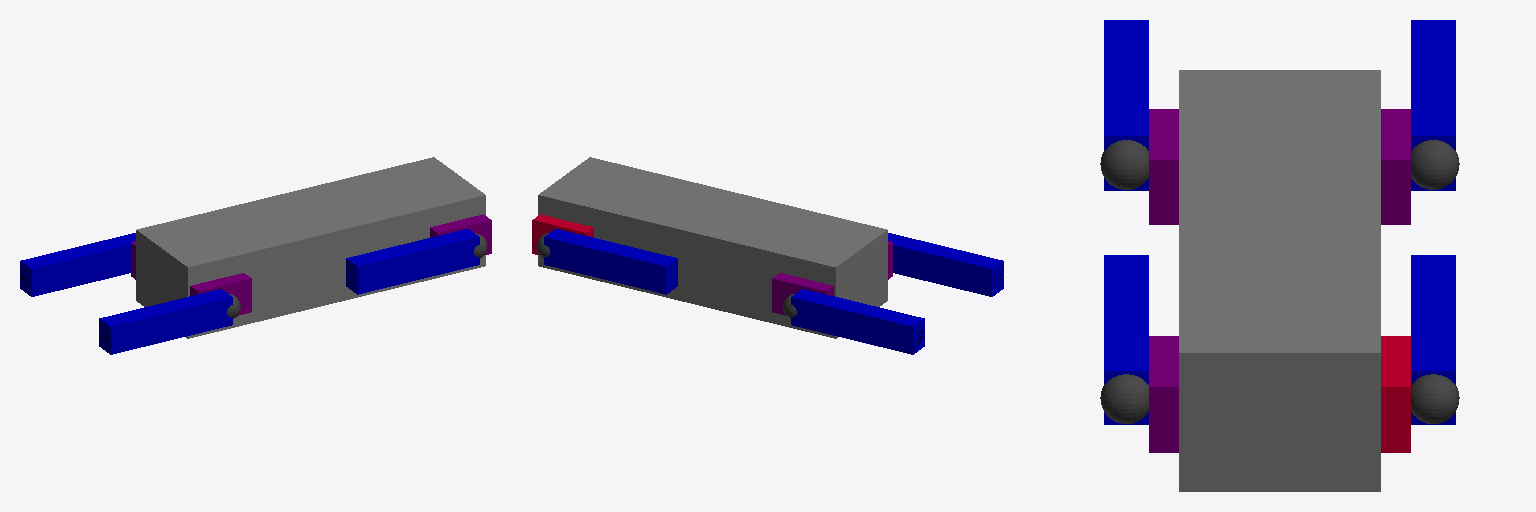
--- What the picture shows (computed from the rendered views, not written in the file) ---
The picture shows the robot from 3 angles, left to right: view 1: azimuth 30°, elevation 25°; view 2: azimuth 150°, elevation 25°; view 3: azimuth 270°, elevation 25°; orthographic projection.
Robot: ngr — 17 links, 16 joints (12 revolute, 4 fixed); root link body; default pose: every joint at zero.
Links seen in each view (by area): view 1: body, upper2, upper3, upper1, hip3, hip2; view 2: body, upper0, upper1, upper3, hip1, hip0; view 3: body, upper1, upper3, upper0, upper2, hip0, hip2, hip1, hip3, toe1, toe3, toe0 (+1 smaller).
Link boxes in pixels (x1=…): body: x1=136, y1=157, x2=485, y2=338; upper2: x1=346, y1=229, x2=479, y2=294; upper3: x1=99, y1=289, x2=232, y2=354; upper1: x1=20, y1=233, x2=135, y2=296; hip3: x1=190, y1=273, x2=251, y2=315; hip2: x1=430, y1=214, x2=491, y2=254; body: x1=538, y1=157, x2=887, y2=338; upper0: x1=544, y1=229, x2=677, y2=294; upper1: x1=791, y1=289, x2=924, y2=354; upper3: x1=888, y1=233, x2=1003, y2=296; hip1: x1=772, y1=273, x2=833, y2=315; hip0: x1=532, y1=214, x2=593, y2=254; body: x1=1179, y1=70, x2=1380, y2=491; upper1: x1=1411, y1=20, x2=1455, y2=190; upper3: x1=1104, y1=20, x2=1148, y2=190; upper0: x1=1411, y1=255, x2=1455, y2=424; upper2: x1=1104, y1=255, x2=1148, y2=424; hip0: x1=1381, y1=336, x2=1410, y2=452; hip2: x1=1149, y1=336, x2=1178, y2=452; hip1: x1=1381, y1=109, x2=1410, y2=224; hip3: x1=1149, y1=109, x2=1178, y2=224; toe1: x1=1411, y1=140, x2=1459, y2=189; toe3: x1=1100, y1=140, x2=1148, y2=189; toe0: x1=1411, y1=374, x2=1459, y2=423.
Size in the robot's own frame: 1.1 by 0.4457 by 0.19 metres.
Geometry: primitives only (box / cylinder / sphere), no mesh files.

URDF robot description (ngr):
<?xml version="1.0" ?>
<!-- =================================================================================== -->
<!-- |    This document was autogenerated by xacro from vision60.urdf.xacro            | -->
<!-- |    EDITING THIS FILE BY HAND IS NOT RECOMMENDED                                 | -->
<!-- =================================================================================== -->
<!--
 * Copyright (C) Ghost Robotics - All Rights Reserved
 * Unauthorized copying of this file, via any medium is strictly prohibited
 * Proprietary and confidential
 * Written by Avik De <[email redacted]> and Tom Jacobs <[email redacted]>
-->
<robot name="ngr" xmlns:xacro="http://www.ros.org/wiki/xacro">
  <!-- Define parameters -->
  <!-- Change here v3 or v4 -->
  <!-- body geometric properties xacro:if does not appear to work with this version of xacro.py -->
  <!-- body dynamic properties -->
  <!-- Simulation-specific dynamics properties (mostly guessing) -->
  <!-- Joint limits -->
  <!-- Define materials -->
  <material name="gray">
    <color rgba="0.5 0.5 0.5 1.0"/>
  </material>
  <material name="darkgray">
    <color rgba="0.3 0.3 0.3 1.0"/>
  </material>
  <material name="blue">
    <color rgba="0 0 0.8 1"/>
  </material>
  <material name="black">
    <color rgba="0 0 0 1"/>
  </material>
  <material name="purple">
    <color rgba="0.5 0.0 0.5 1.0"/>
  </material>
  <material name="red">
    <color rgba="0.8 0.0 0.2 1.0"/>
  </material>
  <!-- Body -->
  <link name="body">
    <visual>
      <origin rpy="0 0 0" xyz="0 0 0"/>
      <geometry>
        <box size="0.83 0.25 0.19"/>
      </geometry>
      <material name="gray"/>
    </visual>
    <inertial>
      <mass value="17.9"/>
      <inertia ixx="0.0986" ixy="0" ixz="0" iyy="0.8105" iyz="0" izz="0.8369"/>
    </inertial>
    <!-- Just copy geometry for collision -->
    <collision>
      <origin rpy="0 0 0" xyz="0 0 0"/>
      <geometry>
        <box size="0.83 0.25 0.19"/>
      </geometry>
    </collision>
  </link>
  <gazebo reference="body">
    <material>Gazebo/BlackTransparent</material>
  </gazebo>
  <gazebo reference="body">
    <gravity>true</gravity>
    <sensor name="imu_sensor" type="imu">
      <always_on>true</always_on>
      <update_rate>100</update_rate>
      <visualize>true</visualize>
      <topic>__default_topic_</topic>
      <plugin filename="libgazebo_ros_imu_sensor.so" name="imu_plugin">
        <topicName>imu</topicName>
        <bodyName>body</bodyName>
        <updateRateHZ>100.0</updateRateHZ>
        <gaussianNoise>0.0</gaussianNoise>
        <xyzOffset>0 0 0</xyzOffset>
        <rpyOffset>0 0 0</rpyOffset>
        <frameName>body</frameName>
        <initialOrientationAsReference>false</initialOrientationAsReference>
      </plugin>
      <pose>0 0 0 0 0 0</pose>
    </sensor>
  </gazebo>
  <!-- Define our leg macro -->
  <!-- Our four legs -->
  <!-- Hip motor -->
  <link name="hip0">
    <visual>
      <origin rpy="1.5707963268 0 0" xyz="-0.01 -0.005 0"/>
      <geometry>
        <box size="0.15 0.09 0.15"/>
      </geometry>
      <material name="red"/>
    </visual>
    <collision>
      <origin rpy="1.5707963268 0 0" xyz="-0.01 -0.005 0"/>
      <geometry>
        <box size="0.15 0.09 0.15"/>
      </geometry>
    </collision>
    <inertial>
      <mass value="1.975"/>
      <inertia ixx="0.00891458" ixy="0" ixz="0" iyy="0.0100573" iyz="0" izz="0.01533698"/>
    </inertial>
  </link>
  <gazebo reference="hip0">
    <material>Gazebo/Purple</material>
  </gazebo>
  <!-- Abduction joint. Joint names are: 8 9 10 11 -->
  <joint name="8" type="revolute">
    <parent link="body"/>
    <child link="hip0"/>
    <axis xyz="1 0 0"/>
    <origin xyz="0.34385 0.092865 0"/>
    <limit effort="375" lower="-0.43" upper="0.43" velocity="8.6"/>
    <dynamics damping="0.0" friction="0.0"/>
  </joint>
  <!-- Transmission elements required for Gazebo -->
  <transmission name="transmission_8">
    <type>transmission_interface/SimpleTransmission</type>
    <joint name="8">
      <hardwareInterface>hardware_interface/EffortJointInterface</hardwareInterface>
    </joint>
    <actuator name="motor_8">
      <hardwareInterface>EffortJointInterface</hardwareInterface>
      <mechanicalReduction>1</mechanicalReduction>
    </actuator>
  </transmission>
  <!-- Upper leg -->
  <link name="upper0">
    <visual>
      <origin rpy="0 0 0" xyz="-0.17 0.0 0"/>
      <geometry>
        <box size="0.34 0.055 0.075"/>
      </geometry>
      <material name="blue"/>
    </visual>
    <collision>
      <origin rpy="0 0 0" xyz="-0.17 0.0 0"/>
      <geometry>
        <box size="0.34 0.055 0.075"/>
      </geometry>
    </collision>
    <inertial>
      <mass value="2.525"/>
      <inertia ixx="0.0003125" ixy="0" ixz="0" iyy="0.0040625" iyz="0" izz="0.0040625"/>
    </inertial>
  </link>
  <gazebo reference="upper0">
    <material>Gazebo/Blue</material>
  </gazebo>
  <!-- Hip joint. (Motor to upper leg). Joint names are: 0 2 4 6 -->
  <joint name="0" type="revolute">
    <parent link="hip0"/>
    <child link="upper0"/>
    <axis xyz="0 -1 0"/>
    <origin xyz="0 0.0975 0"/>
    <!--  rpy="0 -0.3 0" -->
    <limit effort="87.5" lower="-6.28318530718" upper="6.28318530718" velocity="30"/>
    <dynamics damping="0.0" friction="0.0"/>
  </joint>
  <!-- Transmission elements required for Gazebo -->
  <transmission name="transmission_0">
    <type>transmission_interface/SimpleTransmission</type>
    <joint name="0">
      <hardwareInterface>hardware_interface/EffortJointInterface</hardwareInterface>
    </joint>
    <actuator name="motor_0">
      <hardwareInterface>EffortJointInterface</hardwareInterface>
      <mechanicalReduction>1</mechanicalReduction>
    </actuator>
  </transmission>
  <!-- Lower leg -->
  <link name="lower0">
    <visual>
      <origin rpy="0 1.5707963268 0" xyz="0.17035 0 0"/>
      <geometry>
        <cylinder length="0.3407" radius="0.02"/>
      </geometry>
      <material name="black"/>
    </visual>
    <collision>
      <origin rpy="0 1.5707963268 0" xyz="0.17035 0 0"/>
      <geometry>
        <cylinder length="0.3407" radius="0.02"/>
      </geometry>
    </collision>
    <inertial>
      <mass value="0.375"/>
      <inertia ixx="0.00131075" ixy="0" ixz="0" iyy="0.00131075" iyz="0" izz="0.0001"/>
    </inertial>
  </link>
  <gazebo reference="lower0">
    <material>Gazebo/Black</material>
  </gazebo>
  <!-- Knee joint. Joint names are: 1 3 5 7 -->
  <joint name="1" type="revolute">
    <parent link="upper0"/>
    <child link="lower0"/>
    <axis xyz="0 1 0"/>
    <origin xyz="-0.34 0 0"/>
    <!--rpy="0 0.5 0"-->
    <limit effort="87.5" lower="0" upper="3.14159265359" velocity="30"/>
    <dynamics damping="0.0" friction="0.0"/>
  </joint>
  <!-- Transmission elements required for Gazebo -->
  <transmission name="transmission_1">
    <type>transmission_interface/SimpleTransmission</type>
    <joint name="1">
      <hardwareInterface>hardware_interface/EffortJointInterface</hardwareInterface>
    </joint>
    <actuator name="motor_1">
      <hardwareInterface>EffortJointInterface</hardwareInterface>
      <mechanicalReduction>1</mechanicalReduction>
    </actuator>
  </transmission>
  <!-- Toe -->
  <link name="toe0">
    <contact>
      <friction_anchor/>
      <stiffness value="30000.0"/>
      <damping value="1000.0"/>
      <spinning_friction value="0.3"/>
      <lateral_friction value="3.0"/>
    </contact>
    <visual>
      <origin rpy="0 0 0" xyz="0 0 0"/>
      <geometry>
        <sphere radius="0.0325"/>
      </geometry>
      <material name="darkgray"/>
    </visual>
    <collision>
      <origin rpy="0 0 0" xyz="0 0 0"/>
      <geometry>
        <sphere radius="0.0325"/>
      </geometry>
    </collision>
    <inertial>
      <mass value="0.15"/>
      <inertia ixx="0.000025" ixy="0" ixz="0" iyy="0.000025" iyz="0" izz="0.000025"/>
    </inertial>
  </link>
  <gazebo reference="toe0">
    <material>Gazebo/DarkGray</material>
    <collision>
      <surface>
        <bounce>
          <restitution_coefficient>0</restitution_coefficient>
          <threshold>1e+06</threshold>
        </bounce>
        <friction>
          <torsional>
            <coefficient>0.3</coefficient>
          </torsional>
          <ode>
            <mu>20.0</mu>
            <mu2>3.0</mu2>
          </ode>
          <bullet>
            <rolling_friction>0.3</rolling_friction>
            <friction2>3.0</friction2>
          </bullet>
        </friction>
        <contact>
          <bullet>
            <kp>30000.0</kp>
            <kd>1000.0</kd>
          </bullet>
          <ode>
            <kp>30000.0</kp>
            <kd>1000.0</kd>
          </ode>
        </contact>
      </surface>
    </collision>
  </gazebo>
  <joint name="jtoe0" type="fixed">
    <parent link="lower0"/>
    <child link="toe0"/>
    <origin xyz="0.3407 0 -0.0"/>
    <dynamics damping="0.0" friction="0.0"/>
  </joint>
  <!-- Hip motor -->
  <link name="hip1">
    <visual>
      <origin rpy="1.5707963268 0 0" xyz="0.01 -0.005 0"/>
      <geometry>
        <box size="0.15 0.09 0.15"/>
      </geometry>
      <material name="purple"/>
    </visual>
    <collision>
      <origin rpy="1.5707963268 0 0" xyz="0.01 -0.005 0"/>
      <geometry>
        <box size="0.15 0.09 0.15"/>
      </geometry>
    </collision>
    <inertial>
      <mass value="1.975"/>
      <inertia ixx="0.00891458" ixy="0" ixz="0" iyy="0.0100573" iyz="0" izz="0.01533698"/>
    </inertial>
  </link>
  <gazebo reference="hip1">
    <material>Gazebo/Purple</material>
  </gazebo>
  <!-- Abduction joint. Joint names are: 8 9 10 11 -->
  <joint name="9" type="revolute">
    <parent link="body"/>
    <child link="hip1"/>
    <axis xyz="1 0 0"/>
    <origin xyz="-0.34385 0.092865 0"/>
    <limit effort="375" lower="-0.43" upper="0.43" velocity="8.6"/>
    <dynamics damping="0.0" friction="0.0"/>
  </joint>
  <!-- Transmission elements required for Gazebo -->
  <transmission name="transmission_9">
    <type>transmission_interface/SimpleTransmission</type>
    <joint name="9">
      <hardwareInterface>hardware_interface/EffortJointInterface</hardwareInterface>
    </joint>
    <actuator name="motor_9">
      <hardwareInterface>EffortJointInterface</hardwareInterface>
      <mechanicalReduction>1</mechanicalReduction>
    </actuator>
  </transmission>
  <!-- Upper leg -->
  <link name="upper1">
    <visual>
      <origin rpy="0 0 0" xyz="-0.17 0.0 0"/>
      <geometry>
        <box size="0.34 0.055 0.075"/>
      </geometry>
      <material name="blue"/>
    </visual>
    <collision>
      <origin rpy="0 0 0" xyz="-0.17 0.0 0"/>
      <geometry>
        <box size="0.34 0.055 0.075"/>
      </geometry>
    </collision>
    <inertial>
      <mass value="2.525"/>
      <inertia ixx="0.0003125" ixy="0" ixz="0" iyy="0.0040625" iyz="0" izz="0.0040625"/>
    </inertial>
  </link>
  <gazebo reference="upper1">
    <material>Gazebo/Blue</material>
  </gazebo>
  <!-- Hip joint. (Motor to upper leg). Joint names are: 0 2 4 6 -->
  <joint name="2" type="revolute">
    <parent link="hip1"/>
    <child link="upper1"/>
    <axis xyz="0 -1 0"/>
    <origin xyz="0 0.0975 0"/>
    <!--  rpy="0 -0.3 0" -->
    <limit effort="87.5" lower="-6.28318530718" upper="6.28318530718" velocity="30"/>
    <dynamics damping="0.0" friction="0.0"/>
  </joint>
  <!-- Transmission elements required for Gazebo -->
  <transmission name="transmission_2">
    <type>transmission_interface/SimpleTransmission</type>
    <joint name="2">
      <hardwareInterface>hardware_interface/EffortJointInterface</hardwareInterface>
    </joint>
    <actuator name="motor_2">
      <hardwareInterface>EffortJointInterface</hardwareInterface>
      <mechanicalReduction>1</mechanicalReduction>
    </actuator>
  </transmission>
  <!-- Lower leg -->
  <link name="lower1">
    <visual>
      <origin rpy="0 1.5707963268 0" xyz="0.17035 0 0"/>
      <geometry>
        <cylinder length="0.3407" radius="0.02"/>
      </geometry>
      <material name="black"/>
    </visual>
    <collision>
      <origin rpy="0 1.5707963268 0" xyz="0.17035 0 0"/>
      <geometry>
        <cylinder length="0.3407" radius="0.02"/>
      </geometry>
    </collision>
    <inertial>
      <mass value="0.375"/>
      <inertia ixx="0.00131075" ixy="0" ixz="0" iyy="0.00131075" iyz="0" izz="0.0001"/>
    </inertial>
  </link>
  <gazebo reference="lower1">
    <material>Gazebo/Black</material>
  </gazebo>
  <!-- Knee joint. Joint names are: 1 3 5 7 -->
  <joint name="3" type="revolute">
    <parent link="upper1"/>
    <child link="lower1"/>
    <axis xyz="0 1 0"/>
    <origin xyz="-0.34 0 0"/>
    <!--rpy="0 0.5 0"-->
    <limit effort="87.5" lower="0" upper="3.14159265359" velocity="30"/>
    <dynamics damping="0.0" friction="0.0"/>
  </joint>
  <!-- Transmission elements required for Gazebo -->
  <transmission name="transmission_3">
    <type>transmission_interface/SimpleTransmission</type>
    <joint name="3">
      <hardwareInterface>hardware_interface/EffortJointInterface</hardwareInterface>
    </joint>
    <actuator name="motor_3">
      <hardwareInterface>EffortJointInterface</hardwareInterface>
      <mechanicalReduction>1</mechanicalReduction>
    </actuator>
  </transmission>
  <!-- Toe -->
  <link name="toe1">
    <contact>
      <friction_anchor/>
      <stiffness value="30000.0"/>
      <damping value="1000.0"/>
      <spinning_friction value="0.3"/>
      <lateral_friction value="3.0"/>
    </contact>
    <visual>
      <origin rpy="0 0 0" xyz="0 0 0"/>
      <geometry>
        <sphere radius="0.0325"/>
      </geometry>
      <material name="darkgray"/>
    </visual>
    <collision>
      <origin rpy="0 0 0" xyz="0 0 0"/>
      <geometry>
        <sphere radius="0.0325"/>
      </geometry>
    </collision>
    <inertial>
      <mass value="0.15"/>
      <inertia ixx="0.000025" ixy="0" ixz="0" iyy="0.000025" iyz="0" izz="0.000025"/>
    </inertial>
  </link>
  <gazebo reference="toe1">
    <material>Gazebo/DarkGray</material>
    <collision>
      <surface>
        <bounce>
          <restitution_coefficient>0</restitution_coefficient>
          <threshold>1e+06</threshold>
        </bounce>
        <friction>
          <torsional>
            <coefficient>0.3</coefficient>
          </torsional>
          <ode>
            <mu>20.0</mu>
            <mu2>3.0</mu2>
          </ode>
          <bullet>
            <rolling_friction>0.3</rolling_friction>
            <friction2>3.0</friction2>
          </bullet>
        </friction>
        <contact>
          <bullet>
            <kp>30000.0</kp>
            <kd>1000.0</kd>
          </bullet>
          <ode>
            <kp>30000.0</kp>
            <kd>1000.0</kd>
          </ode>
        </contact>
      </surface>
    </collision>
  </gazebo>
  <joint name="jtoe1" type="fixed">
    <parent link="lower1"/>
    <child link="toe1"/>
    <origin xyz="0.3407 0 -0.0"/>
    <dynamics damping="0.0" friction="0.0"/>
  </joint>
  <!-- Hip motor -->
  <link name="hip2">
    <visual>
      <origin rpy="1.5707963268 0 0" xyz="-0.01 0.005 0"/>
      <geometry>
        <box size="0.15 0.09 0.15"/>
      </geometry>
      <material name="purple"/>
    </visual>
    <collision>
      <origin rpy="1.5707963268 0 0" xyz="-0.01 0.005 0"/>
      <geometry>
        <box size="0.15 0.09 0.15"/>
      </geometry>
    </collision>
    <inertial>
      <mass value="1.975"/>
      <inertia ixx="0.00891458" ixy="0" ixz="0" iyy="0.0100573" iyz="0" izz="0.01533698"/>
    </inertial>
  </link>
  <gazebo reference="hip2">
    <material>Gazebo/Purple</material>
  </gazebo>
  <!-- Abduction joint. Joint names are: 8 9 10 11 -->
  <joint name="10" type="revolute">
    <parent link="body"/>
    <child link="hip2"/>
    <axis xyz="1 0 0"/>
    <origin xyz="0.34385 -0.092865 0"/>
    <limit effort="375" lower="-0.43" upper="0.43" velocity="8.6"/>
    <dynamics damping="0.0" friction="0.0"/>
  </joint>
  <!-- Transmission elements required for Gazebo -->
  <transmission name="transmission_10">
    <type>transmission_interface/SimpleTransmission</type>
    <joint name="10">
      <hardwareInterface>hardware_interface/EffortJointInterface</hardwareInterface>
    </joint>
    <actuator name="motor_10">
      <hardwareInterface>EffortJointInterface</hardwareInterface>
      <mechanicalReduction>1</mechanicalReduction>
    </actuator>
  </transmission>
  <!-- Upper leg -->
  <link name="upper2">
    <visual>
      <origin rpy="0 0 0" xyz="-0.17 -0.0 0"/>
      <geometry>
        <box size="0.34 0.055 0.075"/>
      </geometry>
      <material name="blue"/>
    </visual>
    <collision>
      <origin rpy="0 0 0" xyz="-0.17 -0.0 0"/>
      <geometry>
        <box size="0.34 0.055 0.075"/>
      </geometry>
    </collision>
    <inertial>
      <mass value="2.525"/>
      <inertia ixx="0.0003125" ixy="0" ixz="0" iyy="0.0040625" iyz="0" izz="0.0040625"/>
    </inertial>
  </link>
  <gazebo reference="upper2">
    <material>Gazebo/Blue</material>
  </gazebo>
  <!-- Hip joint. (Motor to upper leg). Joint names are: 0 2 4 6 -->
  <joint name="4" type="revolute">
    <parent link="hip2"/>
    <child link="upper2"/>
    <axis xyz="0 -1 0"/>
    <origin xyz="0 -0.0975 0"/>
    <!--  rpy="0 -0.3 0" -->
    <limit effort="87.5" lower="-6.28318530718" upper="6.28318530718" velocity="30"/>
    <dynamics damping="0.0" friction="0.0"/>
  </joint>
  <!-- Transmission elements required for Gazebo -->
  <transmission name="transmission_4">
    <type>transmission_interface/SimpleTransmission</type>
    <joint name="4">
      <hardwareInterface>hardware_interface/EffortJointInterface</hardwareInterface>
    </joint>
    <actuator name="motor_4">
      <hardwareInterface>EffortJointInterface</hardwareInterface>
      <mechanicalReduction>1</mechanicalReduction>
    </actuator>
  </transmission>
  <!-- Lower leg -->
  <link name="lower2">
    <visual>
      <origin rpy="0 1.5707963268 0" xyz="0.17035 0 0"/>
      <geometry>
        <cylinder length="0.3407" radius="0.02"/>
      </geometry>
      <material name="black"/>
    </visual>
    <collision>
      <origin rpy="0 1.5707963268 0" xyz="0.17035 0 0"/>
      <geometry>
        <cylinder length="0.3407" radius="0.02"/>
      </geometry>
    </collision>
    <inertial>
      <mass value="0.375"/>
      <inertia ixx="0.00131075" ixy="0" ixz="0" iyy="0.00131075" iyz="0" izz="0.0001"/>
    </inertial>
  </link>
  <gazebo reference="lower2">
    <material>Gazebo/Black</material>
  </gazebo>
  <!-- Knee joint. Joint names are: 1 3 5 7 -->
  <joint name="5" type="revolute">
    <parent link="upper2"/>
    <child link="lower2"/>
    <axis xyz="0 1 0"/>
    <origin xyz="-0.34 0 0"/>
    <!--rpy="0 0.5 0"-->
    <limit effort="87.5" lower="0" upper="3.14159265359" velocity="30"/>
    <dynamics damping="0.0" friction="0.0"/>
  </joint>
  <!-- Transmission elements required for Gazebo -->
  <transmission name="transmission_5">
    <type>transmission_interface/SimpleTransmission</type>
    <joint name="5">
      <hardwareInterface>hardware_interface/EffortJointInterface</hardwareInterface>
    </joint>
    <actuator name="motor_5">
      <hardwareInterface>EffortJointInterface</hardwareInterface>
      <mechanicalReduction>1</mechanicalReduction>
    </actuator>
  </transmission>
  <!-- Toe -->
  <link name="toe2">
    <contact>
      <friction_anchor/>
      <stiffness value="30000.0"/>
      <damping value="1000.0"/>
      <spinning_friction value="0.3"/>
      <lateral_friction value="3.0"/>
    </contact>
    <visual>
      <origin rpy="0 0 0" xyz="0 0 0"/>
      <geometry>
        <sphere radius="0.0325"/>
      </geometry>
      <material name="darkgray"/>
    </visual>
    <collision>
      <origin rpy="0 0 0" xyz="0 0 0"/>
      <geometry>
        <sphere radius="0.0325"/>
      </geometry>
    </collision>
    <inertial>
      <mass value="0.15"/>
      <inertia ixx="0.000025" ixy="0" ixz="0" iyy="0.000025" iyz="0" izz="0.000025"/>
    </inertial>
  </link>
  <gazebo reference="toe2">
    <material>Gazebo/DarkGray</material>
    <collision>
      <surface>
        <bounce>
          <restitution_coefficient>0</restitution_coefficient>
          <threshold>1e+06</threshold>
        </bounce>
        <friction>
          <torsional>
            <coefficient>0.3</coefficient>
          </torsional>
          <ode>
            <mu>20.0</mu>
            <mu2>3.0</mu2>
          </ode>
          <bullet>
            <rolling_friction>0.3</rolling_friction>
            <friction2>3.0</friction2>
          </bullet>
        </friction>
        <contact>
          <bullet>
            <kp>30000.0</kp>
            <kd>1000.0</kd>
          </bullet>
          <ode>
            <kp>30000.0</kp>
            <kd>1000.0</kd>
          </ode>
        </contact>
      </surface>
    </collision>
  </gazebo>
  <joint name="jtoe2" type="fixed">
    <parent link="lower2"/>
    <child link="toe2"/>
    <origin xyz="0.3407 0 -0.0"/>
    <dynamics damping="0.0" friction="0.0"/>
  </joint>
  <!-- Hip motor -->
  <link name="hip3">
    <visual>
      <origin rpy="1.5707963268 0 0" xyz="0.01 0.005 0"/>
      <geometry>
        <box size="0.15 0.09 0.15"/>
      </geometry>
      <material name="purple"/>
    </visual>
    <collision>
      <origin rpy="1.5707963268 0 0" xyz="0.01 0.005 0"/>
      <geometry>
        <box size="0.15 0.09 0.15"/>
      </geometry>
    </collision>
    <inertial>
      <mass value="1.975"/>
      <inertia ixx="0.00891458" ixy="0" ixz="0" iyy="0.0100573" iyz="0" izz="0.01533698"/>
    </inertial>
  </link>
  <gazebo reference="hip3">
    <material>Gazebo/Purple</material>
  </gazebo>
  <!-- Abduction joint. Joint names are: 8 9 10 11 -->
  <joint name="11" type="revolute">
    <parent link="body"/>
    <child link="hip3"/>
    <axis xyz="1 0 0"/>
    <origin xyz="-0.34385 -0.092865 0"/>
    <limit effort="375" lower="-0.43" upper="0.43" velocity="8.6"/>
    <dynamics damping="0.0" friction="0.0"/>
  </joint>
  <!-- Transmission elements required for Gazebo -->
  <transmission name="transmission_11">
    <type>transmission_interface/SimpleTransmission</type>
    <joint name="11">
      <hardwareInterface>hardware_interface/EffortJointInterface</hardwareInterface>
    </joint>
    <actuator name="motor_11">
      <hardwareInterface>EffortJointInterface</hardwareInterface>
      <mechanicalReduction>1</mechanicalReduction>
    </actuator>
  </transmission>
  <!-- Upper leg -->
  <link name="upper3">
    <visual>
      <origin rpy="0 0 0" xyz="-0.17 -0.0 0"/>
      <geometry>
        <box size="0.34 0.055 0.075"/>
      </geometry>
      <material name="blue"/>
    </visual>
    <collision>
      <origin rpy="0 0 0" xyz="-0.17 -0.0 0"/>
      <geometry>
        <box size="0.34 0.055 0.075"/>
      </geometry>
    </collision>
    <inertial>
      <mass value="2.525"/>
      <inertia ixx="0.0003125" ixy="0" ixz="0" iyy="0.0040625" iyz="0" izz="0.0040625"/>
    </inertial>
  </link>
  <gazebo reference="upper3">
    <material>Gazebo/Blue</material>
  </gazebo>
  <!-- Hip joint. (Motor to upper leg). Joint names are: 0 2 4 6 -->
  <joint name="6" type="revolute">
    <parent link="hip3"/>
    <child link="upper3"/>
    <axis xyz="0 -1 0"/>
    <origin xyz="0 -0.0975 0"/>
    <!--  rpy="0 -0.3 0" -->
    <limit effort="87.5" lower="-6.28318530718" upper="6.28318530718" velocity="30"/>
    <dynamics damping="0.0" friction="0.0"/>
  </joint>
  <!-- Transmission elements required for Gazebo -->
  <transmission name="transmission_6">
    <type>transmission_interface/SimpleTransmission</type>
    <joint name="6">
      <hardwareInterface>hardware_interface/EffortJointInterface</hardwareInterface>
    </joint>
    <actuator name="motor_6">
      <hardwareInterface>EffortJointInterface</hardwareInterface>
      <mechanicalReduction>1</mechanicalReduction>
    </actuator>
  </transmission>
  <!-- Lower leg -->
  <link name="lower3">
    <visual>
      <origin rpy="0 1.5707963268 0" xyz="0.17035 0 0"/>
      <geometry>
        <cylinder length="0.3407" radius="0.02"/>
      </geometry>
      <material name="black"/>
    </visual>
    <collision>
      <origin rpy="0 1.5707963268 0" xyz="0.17035 0 0"/>
      <geometry>
        <cylinder length="0.3407" radius="0.02"/>
      </geometry>
    </collision>
    <inertial>
      <mass value="0.375"/>
      <inertia ixx="0.00131075" ixy="0" ixz="0" iyy="0.00131075" iyz="0" izz="0.0001"/>
    </inertial>
  </link>
  <gazebo reference="lower3">
    <material>Gazebo/Black</material>
  </gazebo>
  <!-- Knee joint. Joint names are: 1 3 5 7 -->
  <joint name="7" type="revolute">
    <parent link="upper3"/>
    <child link="lower3"/>
    <axis xyz="0 1 0"/>
    <origin xyz="-0.34 0 0"/>
    <!--rpy="0 0.5 0"-->
    <limit effort="87.5" lower="0" upper="3.14159265359" velocity="30"/>
    <dynamics damping="0.0" friction="0.0"/>
  </joint>
  <!-- Transmission elements required for Gazebo -->
  <transmission name="transmission_7">
    <type>transmission_interface/SimpleTransmission</type>
    <joint name="7">
      <hardwareInterface>hardware_interface/EffortJointInterface</hardwareInterface>
    </joint>
    <actuator name="motor_7">
      <hardwareInterface>EffortJointInterface</hardwareInterface>
      <mechanicalReduction>1</mechanicalReduction>
    </actuator>
  </transmission>
  <!-- Toe -->
  <link name="toe3">
    <contact>
      <friction_anchor/>
      <stiffness value="30000.0"/>
      <damping value="1000.0"/>
      <spinning_friction value="0.3"/>
      <lateral_friction value="3.0"/>
    </contact>
    <visual>
      <origin rpy="0 0 0" xyz="0 0 0"/>
      <geometry>
        <sphere radius="0.0325"/>
      </geometry>
      <material name="darkgray"/>
    </visual>
    <collision>
      <origin rpy="0 0 0" xyz="0 0 0"/>
      <geometry>
        <sphere radius="0.0325"/>
      </geometry>
    </collision>
    <inertial>
      <mass value="0.15"/>
      <inertia ixx="0.000025" ixy="0" ixz="0" iyy="0.000025" iyz="0" izz="0.000025"/>
    </inertial>
  </link>
  <gazebo reference="toe3">
    <material>Gazebo/DarkGray</material>
    <collision>
      <surface>
        <bounce>
          <restitution_coefficient>0</restitution_coefficient>
          <threshold>1e+06</threshold>
        </bounce>
        <friction>
          <torsional>
            <coefficient>0.3</coefficient>
          </torsional>
          <ode>
            <mu>20.0</mu>
            <mu2>3.0</mu2>
          </ode>
          <bullet>
            <rolling_friction>0.3</rolling_friction>
            <friction2>3.0</friction2>
          </bullet>
        </friction>
        <contact>
          <bullet>
            <kp>30000.0</kp>
            <kd>1000.0</kd>
          </bullet>
          <ode>
            <kp>30000.0</kp>
            <kd>1000.0</kd>
          </ode>
        </contact>
      </surface>
    </collision>
  </gazebo>
  <joint name="jtoe3" type="fixed">
    <parent link="lower3"/>
    <child link="toe3"/>
    <origin xyz="0.3407 0 -0.0"/>
    <dynamics damping="0.0" friction="0.0"/>
  </joint>
  <!-- Add ros_control plugin -->
  <gazebo>
    <plugin filename="libgazebo_ros_control.so" name="gazebo_ros_control">
      <robotNamespace>/vision60</robotNamespace>
    </plugin>
  </gazebo>
</robot>
